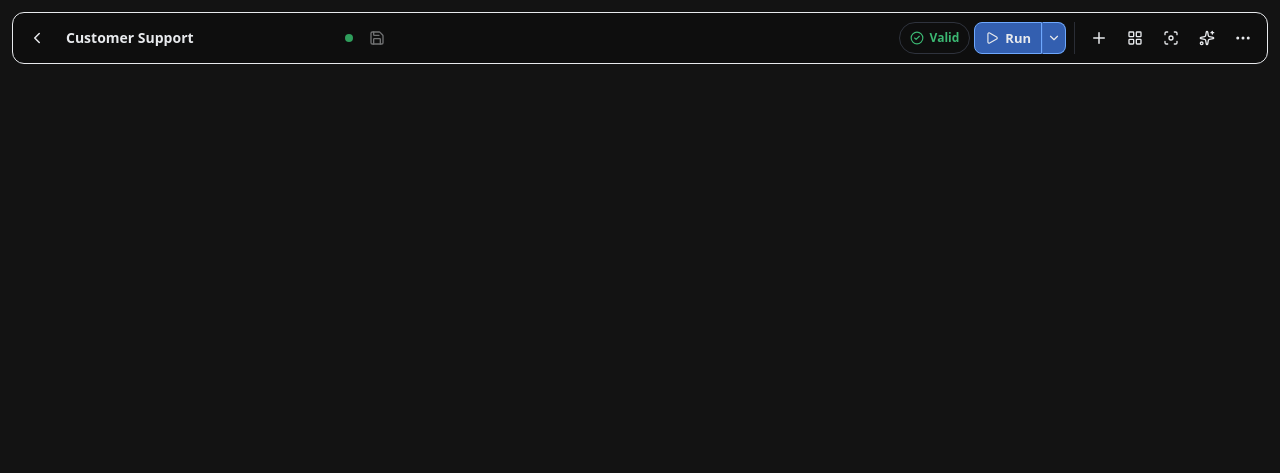
GraphHeader › hides the health chip when snug; Health stays in the overflow menu
Expected: the button named "Focus mode" is shown, top-left (1155, 22), bottom-right (1187, 54)
Click the button named "More actions" at point(1243, 38), box top-left (1227, 22), bottom-right (1259, 54)
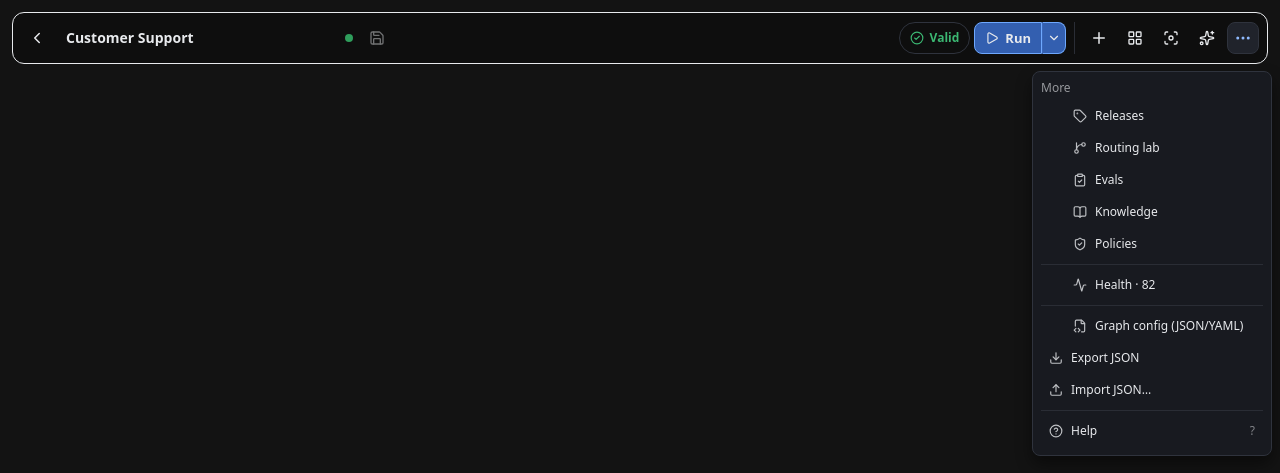
Expected: the text "Health · 82" is shown, top-left (1095, 276), bottom-right (1155, 293)
